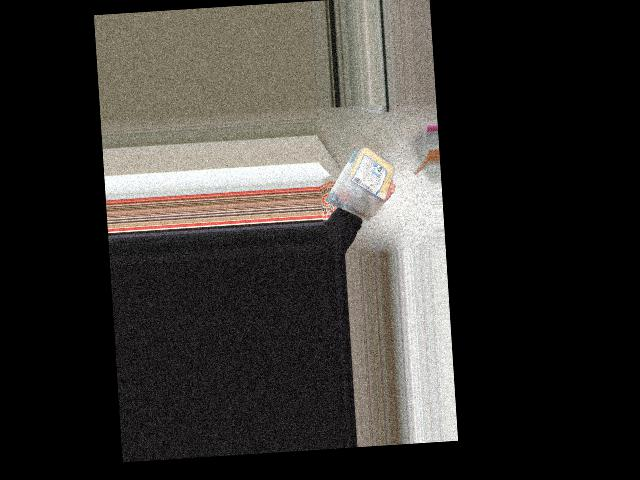cheese: (333, 146, 396, 215)
